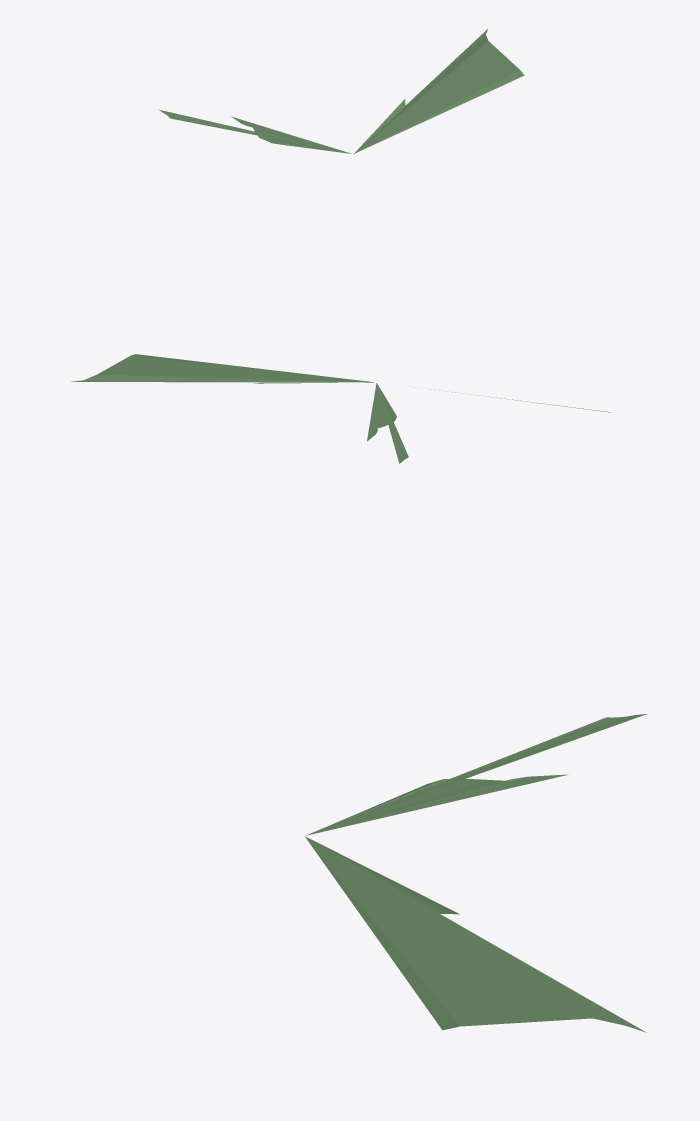
The model's file is c_1673_17831_forest.glb.
3 renders of one model, top to bottom at view 1: azimuth 30°, elevation 25°; view 2: azimuth 150°, elevation 25°; view 3: azimuth 270°, elevation 25°, orthographic. The views are drawn at different scales.
Visible parts, largest first — view 1: geometry_0; view 2: geometry_0; view 3: geometry_0.
Part boxes in pixels (left/top/right/bottom): geometry_0: left=159, top=29, right=524, bottom=154; geometry_0: left=71, top=354, right=610, bottom=463; geometry_0: left=305, top=714, right=646, bottom=1032.
Bounding box in the file's own units: 3245 × 302 × 1647.
